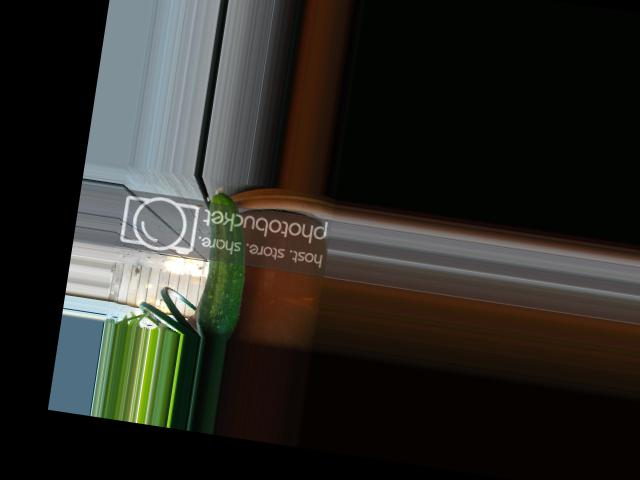cucumber: (190, 184, 257, 340)
